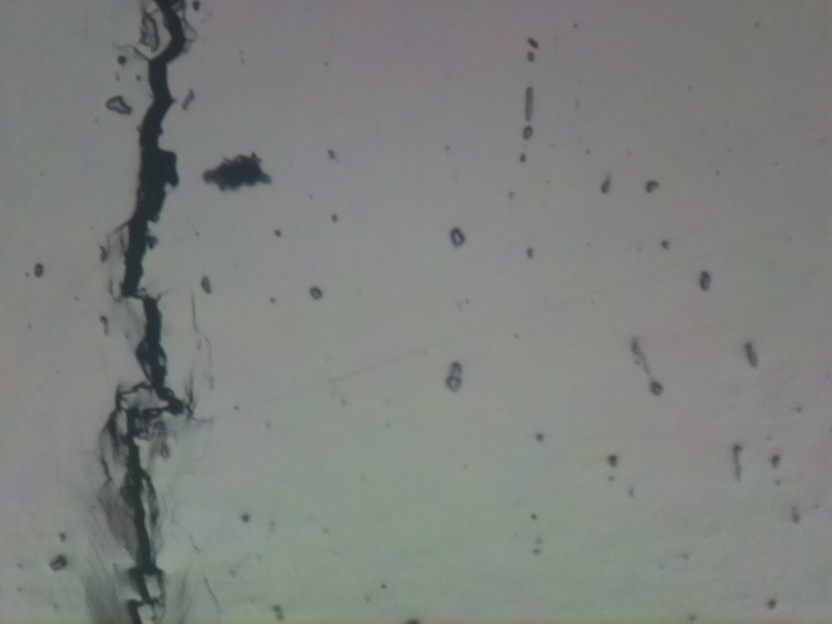crack: (107, 0, 189, 622)
